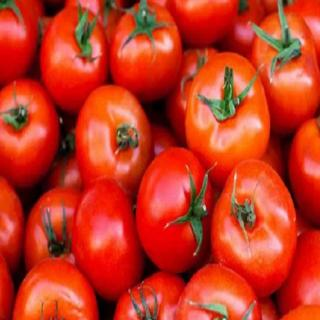Tomat: (211, 159, 298, 299), (186, 51, 272, 187), (137, 146, 218, 274), (251, 1, 320, 134), (72, 177, 145, 301), (76, 85, 154, 198), (41, 1, 110, 113), (110, 1, 183, 101), (1, 78, 61, 188)
